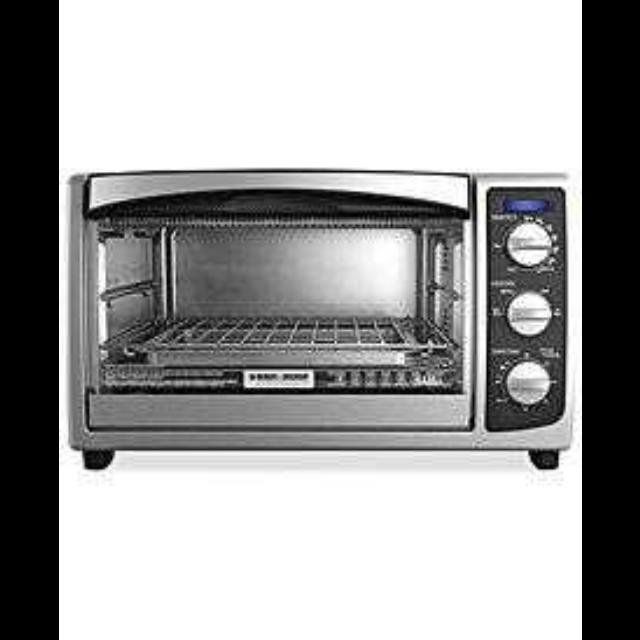Oven: (67, 170, 577, 454)
